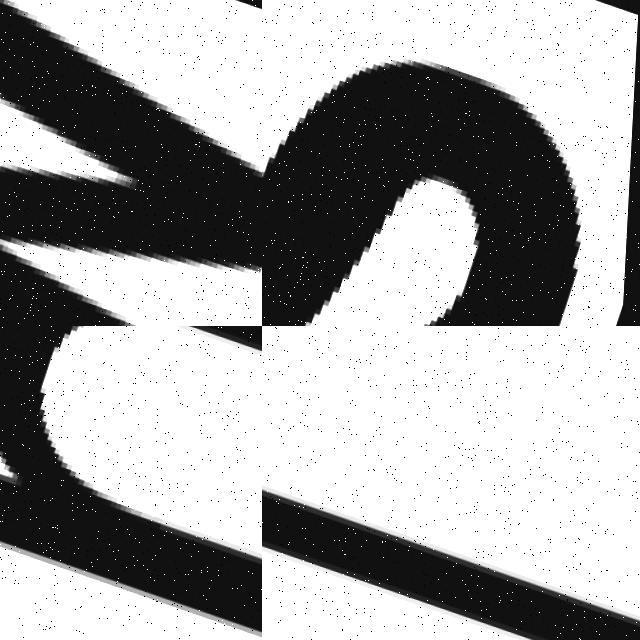L: (262, 432, 640, 640)
N: (0, 326, 262, 640)
S: (262, 0, 638, 326)
W: (0, 0, 262, 326)
